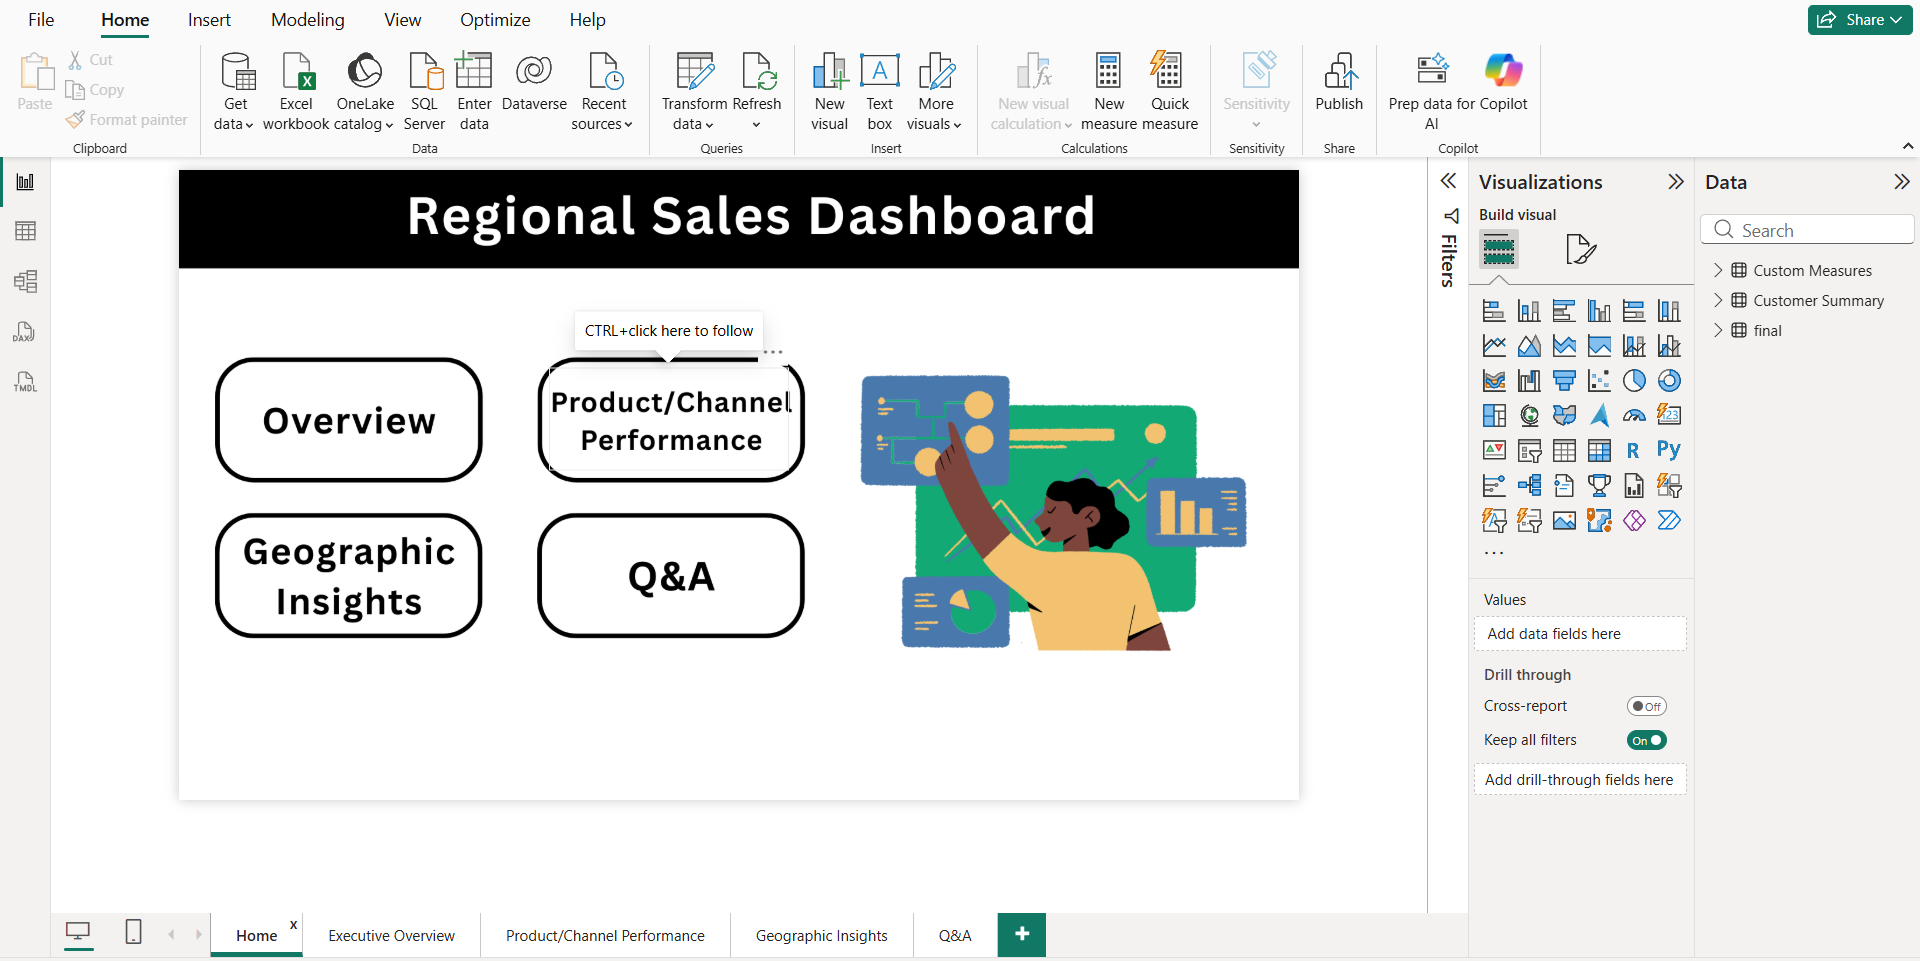

The dashboard page shown, as its layout file describes it:
{"tool":"powerbi","page":{"name":"Home","canvas":[1280,720],"ordinal":0},"visuals":[{"type":"actionButton","box":[57.1,225.7,267.1,118.6],"z":0},{"type":"actionButton","box":[422.9,225.7,274.3,118.6],"z":1000},{"type":"actionButton","box":[57.1,404.3,267.1,118.6],"z":2000},{"type":"actionButton","box":[430,405.7,267.1,118.6],"z":3000}]}

Visuals, with their boxes on the page's 1280x720 design canvas (x1, y1, x2, y2). These are canvas units, not pixel positions in the 1920x961 screenshot, which may show the page scaled, cropped or inside an application window:
actionButton: {"x1": 57, "y1": 226, "x2": 324, "y2": 344}
actionButton: {"x1": 423, "y1": 226, "x2": 697, "y2": 344}
actionButton: {"x1": 57, "y1": 404, "x2": 324, "y2": 523}
actionButton: {"x1": 430, "y1": 406, "x2": 697, "y2": 524}
